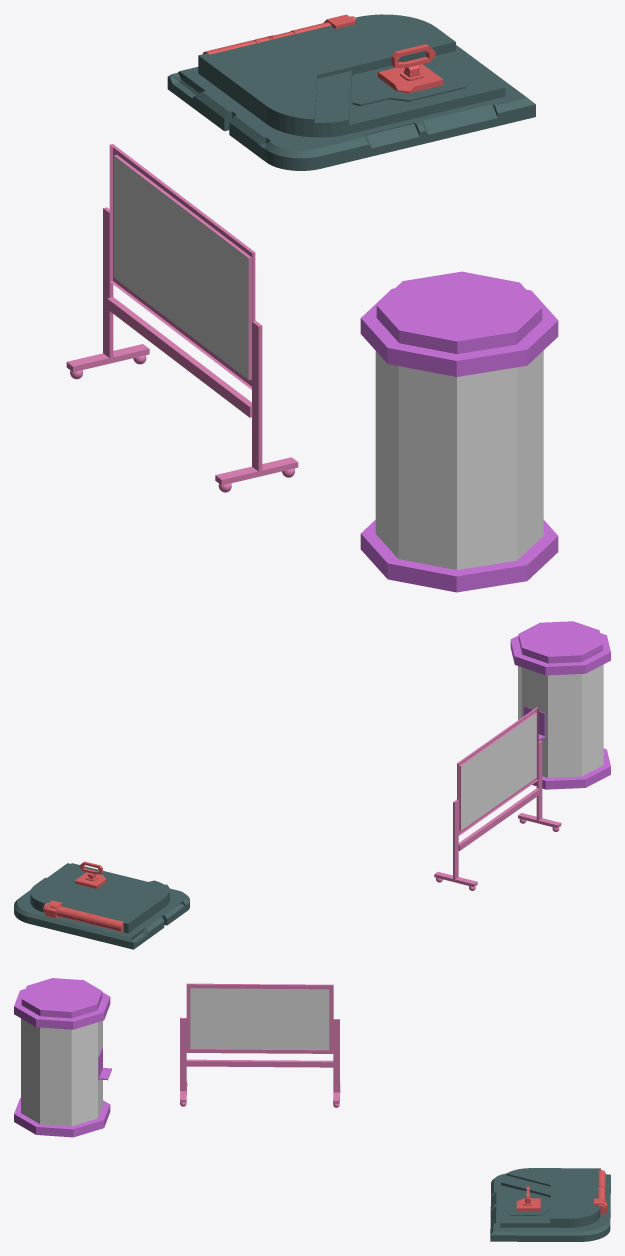
File: ITEMS2.fbx
3 views of the same model, one above another, from view 1: azimuth 30°, elevation 25°; view 2: azimuth 150°, elevation 25°; view 3: azimuth 270°, elevation 25° (orthographic). The views are drawn at different scales.
Parts seen in each view (by area): view 1: Cabine, trapdoor, Sphere.001; view 2: Cabine, trapdoor, Sphere.001; view 3: Cabine, Sphere.001, trapdoor.
Part boxes in pixels (box(x1,y1,x2,y2)): Cabine: box(360, 271, 558, 592); trapdoor: box(167, 14, 535, 170); Sphere.001: box(66, 144, 298, 492); Cabine: box(510, 621, 610, 789); trapdoor: box(14, 861, 189, 949); Sphere.001: box(434, 707, 561, 890); Cabine: box(14, 978, 111, 1137); Sphere.001: box(180, 983, 340, 1107); trapdoor: box(490, 1168, 610, 1241).
Bounding box in the file's own units: 3880 × 1466 × 6420.
